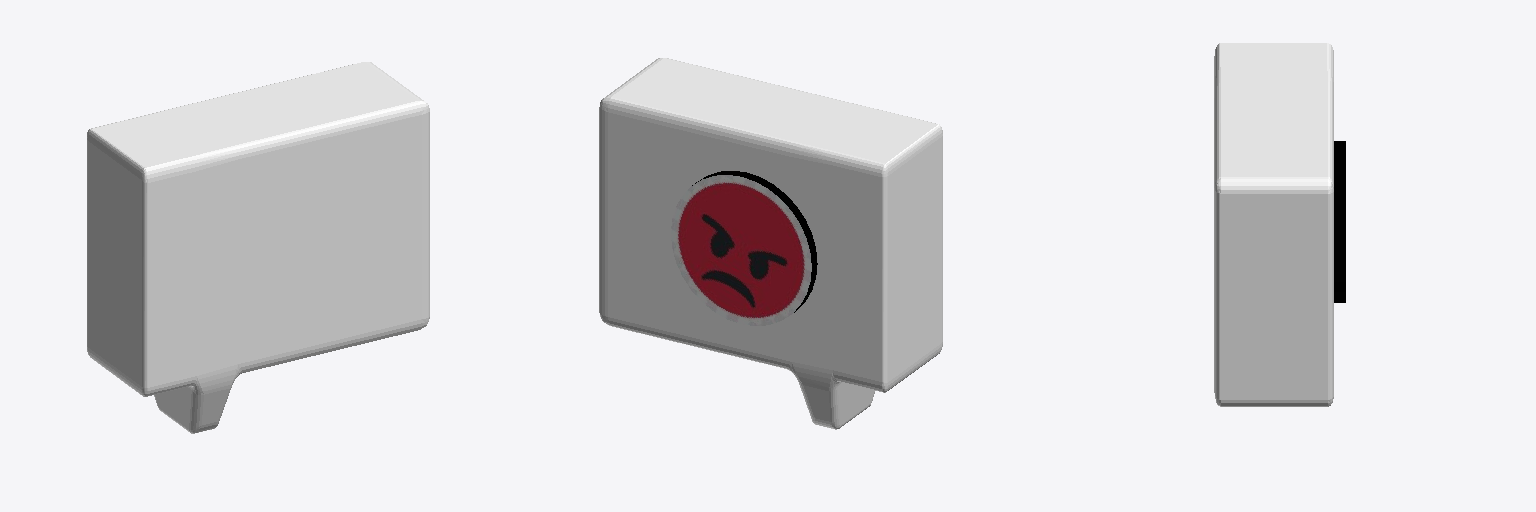
3 renders of one model, left to right at view 1: azimuth 30°, elevation 25°; view 2: azimuth 150°, elevation 25°; view 3: azimuth 270°, elevation 25°, orthographic.
Visible parts, largest first — view 1: Cube; view 2: Cube, Cylinder, Cylinder.001; view 3: Cube, Cylinder.001.
Boxes of the visible parts, box(x1,y1,x2,y2) form: Cube: box(87, 62, 429, 433); Cube: box(599, 58, 942, 429); Cylinder: box(671, 175, 811, 325); Cylinder.001: box(692, 171, 817, 312); Cube: box(1214, 43, 1333, 406); Cylinder.001: box(1334, 141, 1345, 302).
Size of the model in its own units: 2.62 by 2.5 by 1.03.
Materials: 3 (1 with a texture image).